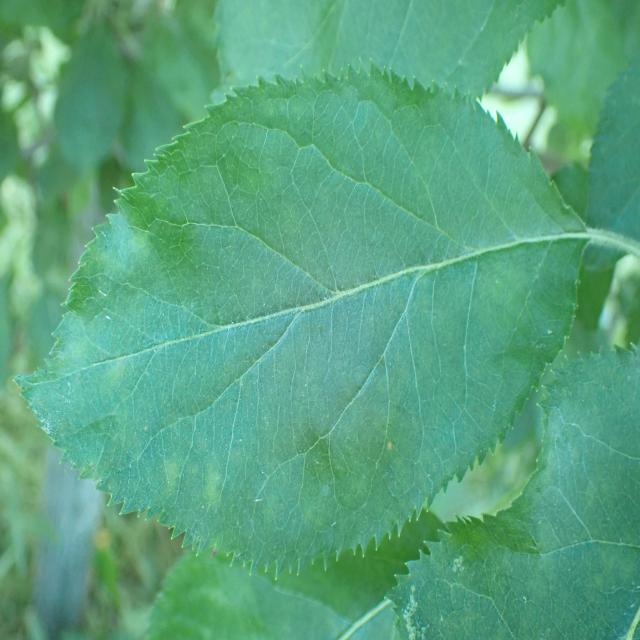scab: (26, 160, 450, 584)
